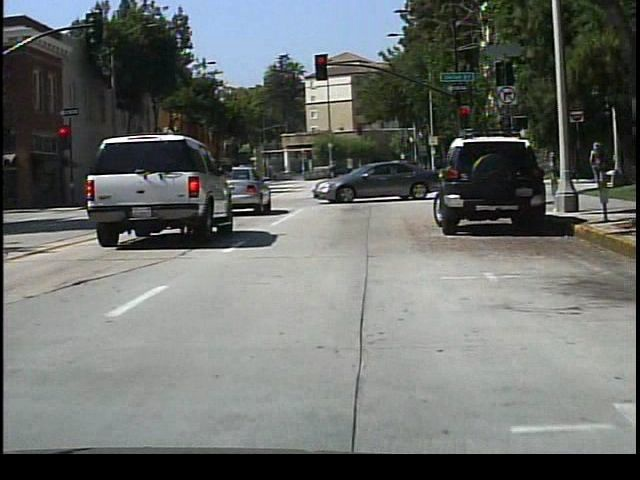person: (589, 138, 608, 192), (457, 150, 474, 187), (324, 158, 344, 177)
